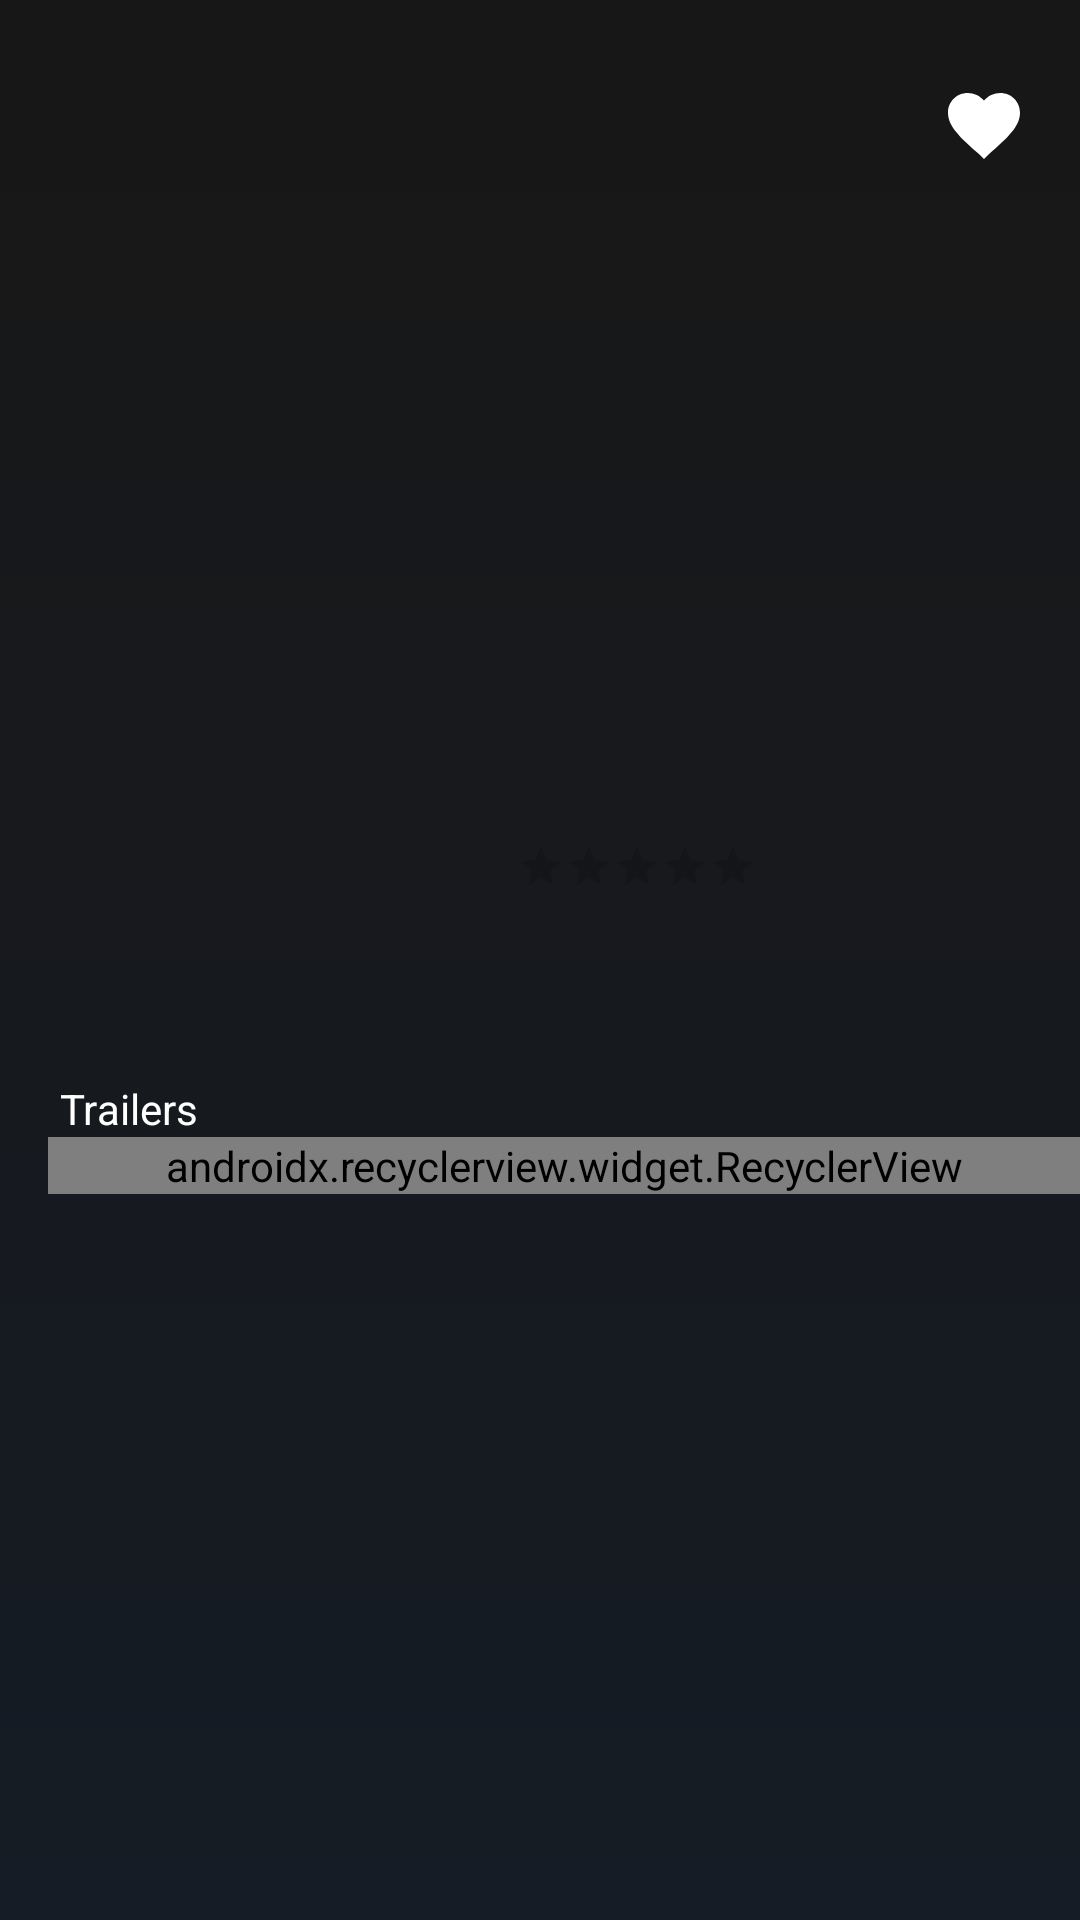

Icons on this 1080x1920 Android screen, each with the point to tap as point (x, y):
unhearth: point (984, 126)
